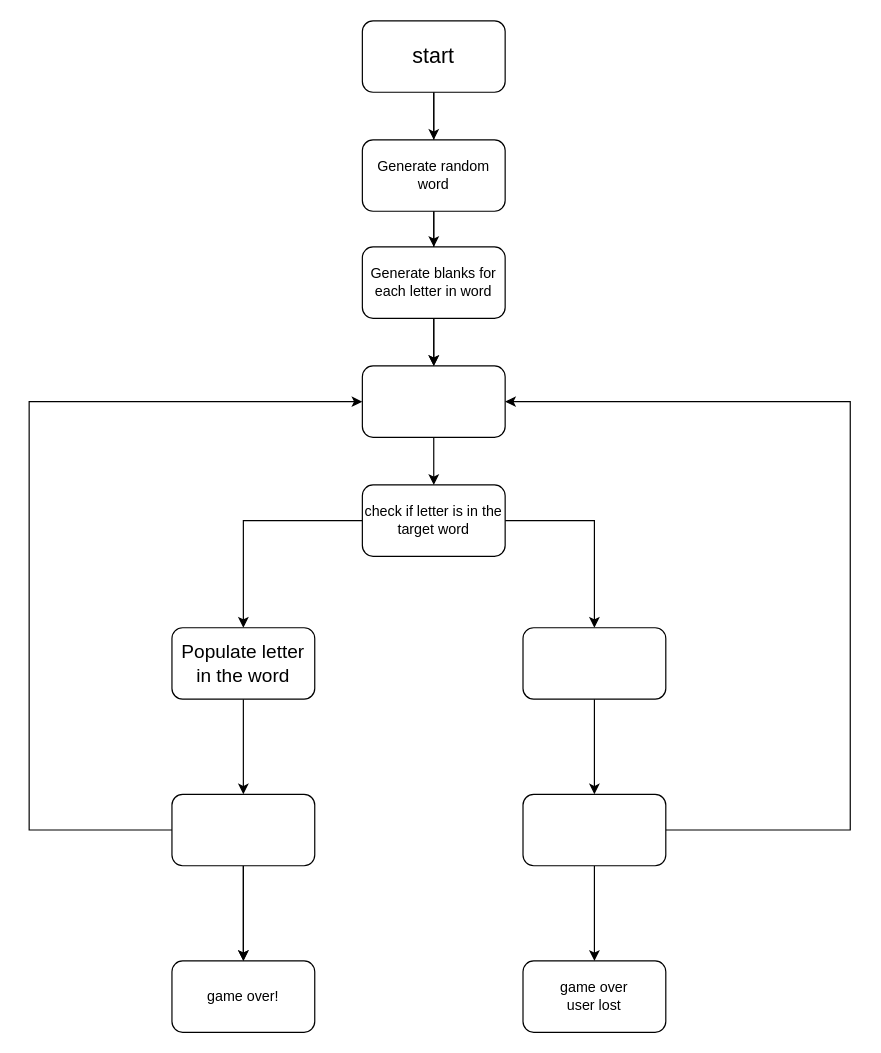
Some shapes in this 881 by 1053 pixel diagram are drawn without their labels. The centre of each missing label's shape, as x and y in pixels:
"Add element to hangman" belongs at (594,663).
"ask user to pick a letter" belongs at (433,401).
"Check if all letters are guessed" belongs at (243,829).
"check if hangman is complete" belongs at (594,829).
